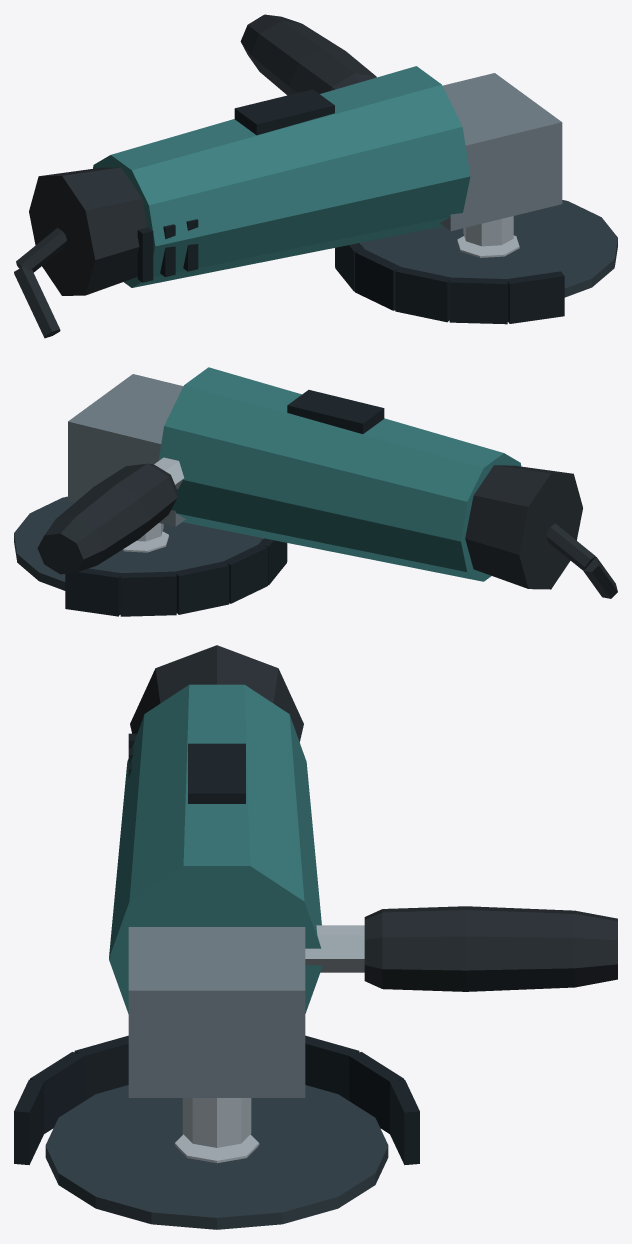
The model's file is b06_angle_grinder.glb.
3 renders of one model, top to bottom at view 1: azimuth 30°, elevation 25°; view 2: azimuth 150°, elevation 25°; view 3: azimuth 270°, elevation 25°, orthographic. The views are drawn at different scales.
Visible parts, largest first — view 1: b06_angle_grinder; view 2: b06_angle_grinder; view 3: b06_angle_grinder.
Boxes of the visible parts, x1,y1,x2,y2 form: b06_angle_grinder: (14,14,617,338); b06_angle_grinder: (14,367,617,616); b06_angle_grinder: (14,645,617,1229).
Size of the model in its own units: 0.338 by 0.113 by 0.2289.
